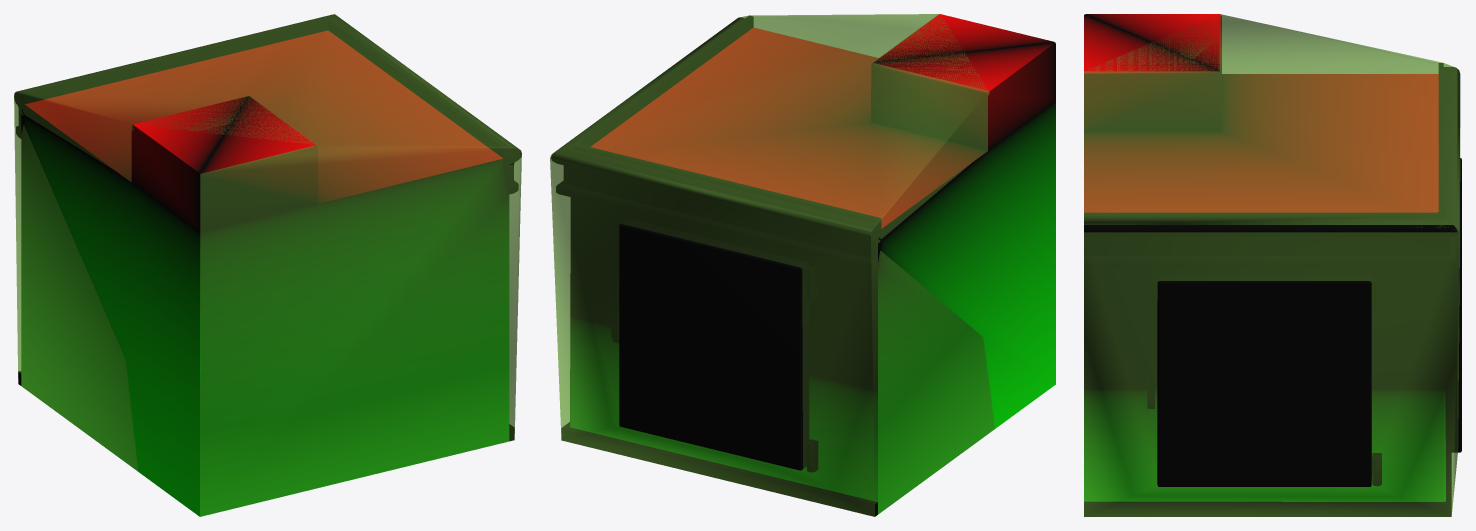
Rendered from M_md_Stall2_90cnr_03.fbx.
3 views of the same model, side by side, from view 1: azimuth 30°, elevation 25°; view 2: azimuth 150°, elevation 25°; view 3: azimuth 270°, elevation 25° (orthographic).
Parts seen in each view (by area): view 1: M_md_Stall2_90cnr_03_LOD0, M_md_Stall2_90cnr_03_col_01; view 2: M_md_Stall2_90cnr_03_LOD0, M_md_Stall2_90cnr_03_col_01; view 3: M_md_Stall2_90cnr_03_LOD0, M_md_Stall2_90cnr_03_col_01.
Part boxes in pixels (left/top/right/bottom): M_md_Stall2_90cnr_03_LOD0: left=14, top=14, right=521, bottom=516; M_md_Stall2_90cnr_03_col_01: left=14, top=14, right=521, bottom=516; M_md_Stall2_90cnr_03_LOD0: left=551, top=14, right=1055, bottom=516; M_md_Stall2_90cnr_03_col_01: left=550, top=14, right=994, bottom=516; M_md_Stall2_90cnr_03_LOD0: left=1084, top=14, right=1461, bottom=516; M_md_Stall2_90cnr_03_col_01: left=1084, top=14, right=1460, bottom=516.
Size of what is drawn, in the model's own units: 105 by 106 by 105.
